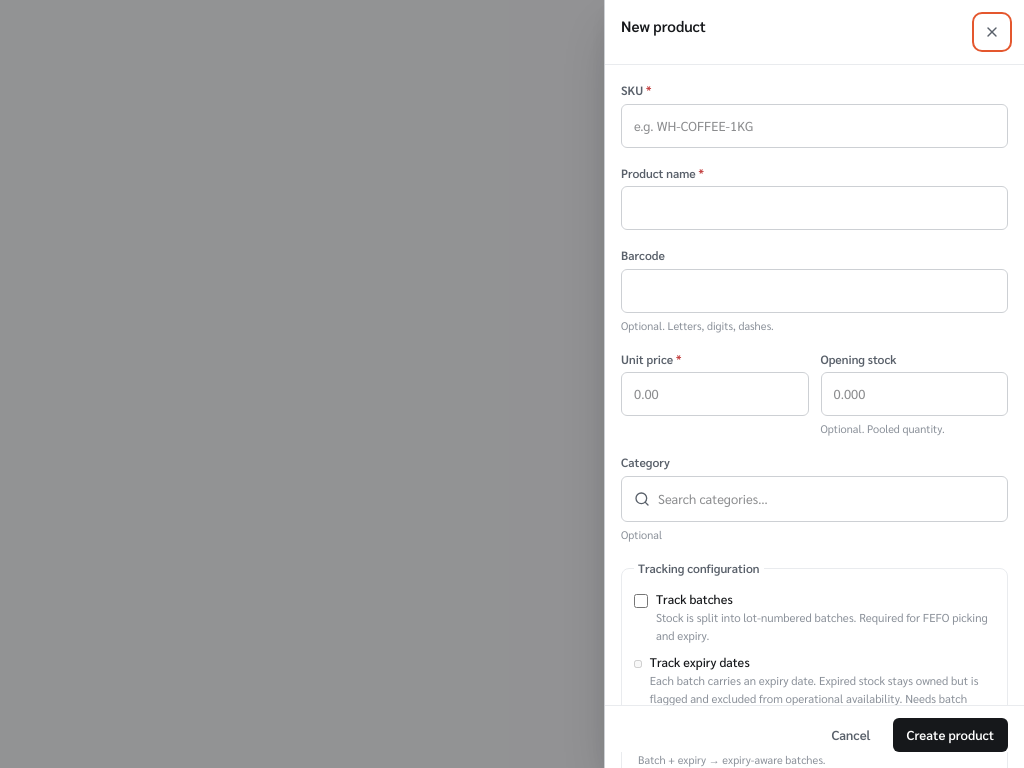
CreateProductDrawer › shows the 409 duplicate-SKU copy with a Request ID
The width and height of the screenshot is (1024, 768).
Type "QA-DUP" into the field labelled "SKU *" at x=814, y=126, box [621,104,1008,148]
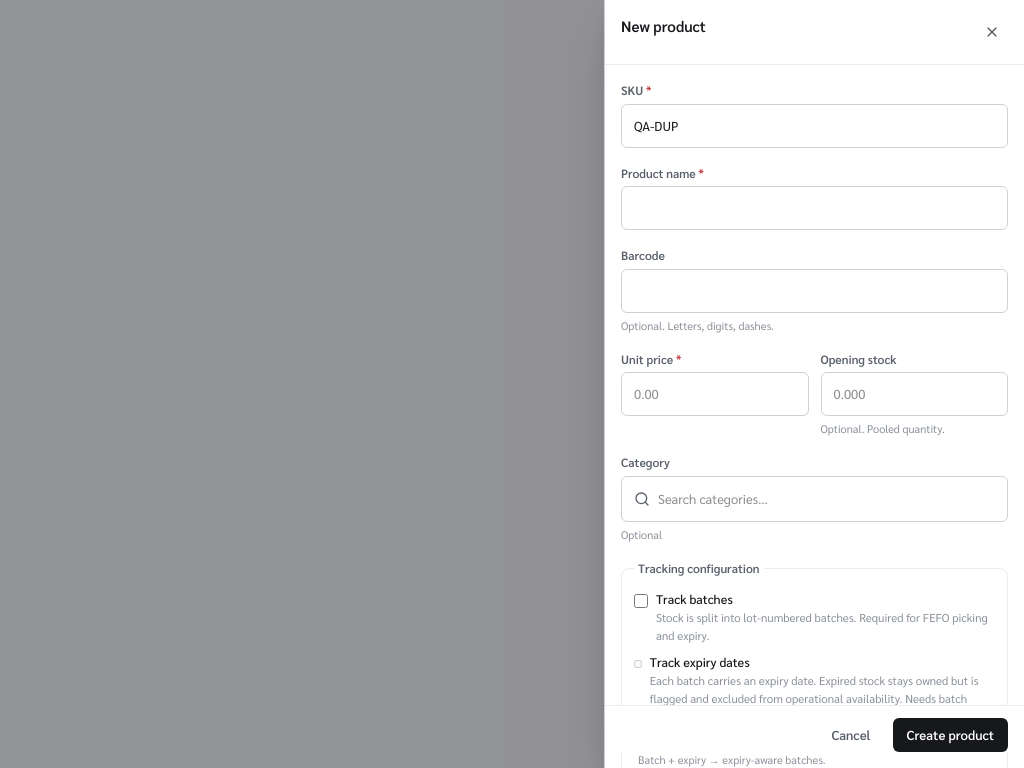
Type "Dup" into the field labelled "Product name *" at x=814, y=208, box [621,186,1008,230]
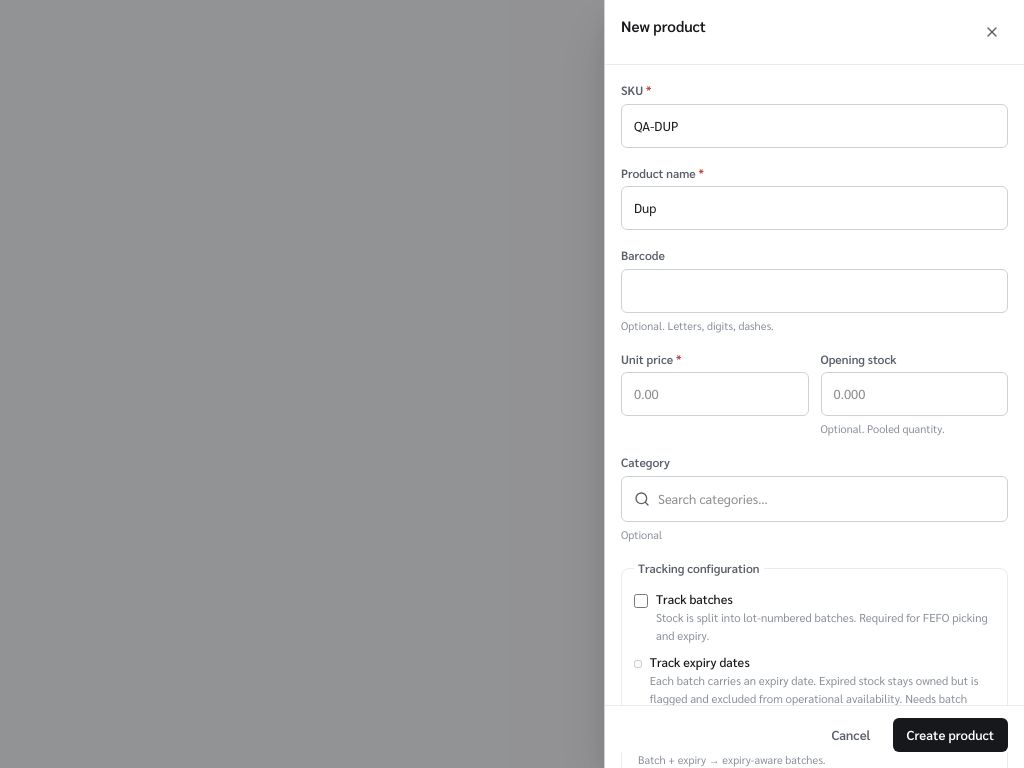
Type "1.00" into the field labelled "Unit price *" at x=715, y=394, box [621,372,808,416]
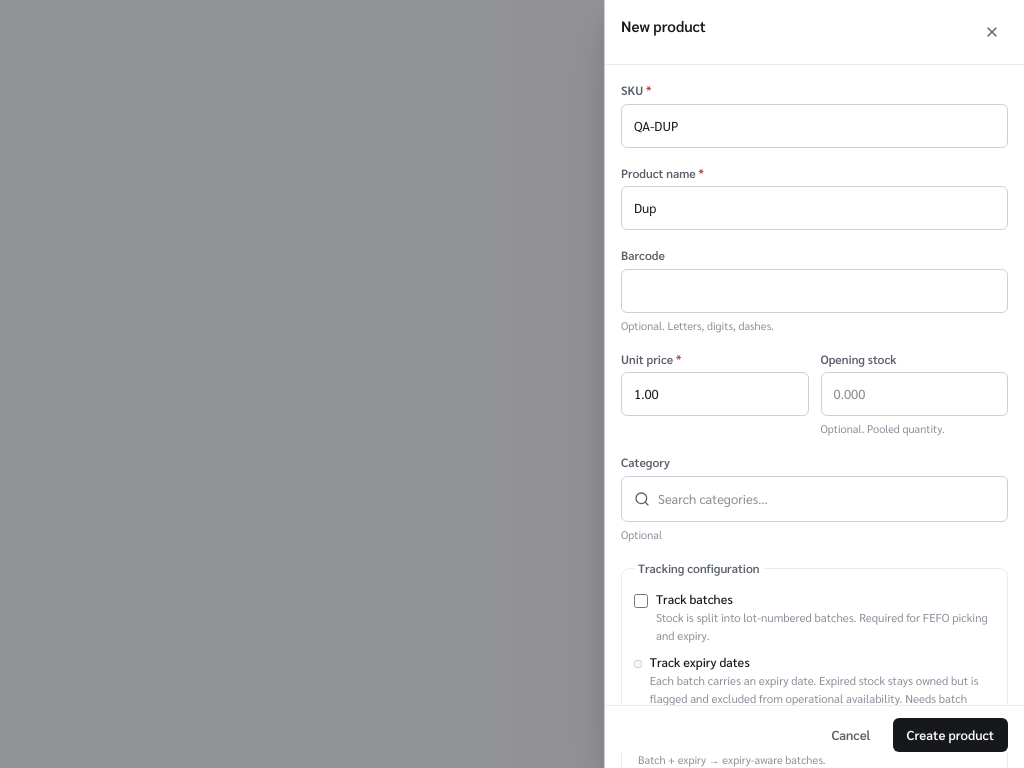
Click the button "Create product" at x=950, y=735, box [892,718,1008,752]
(page scrolled)
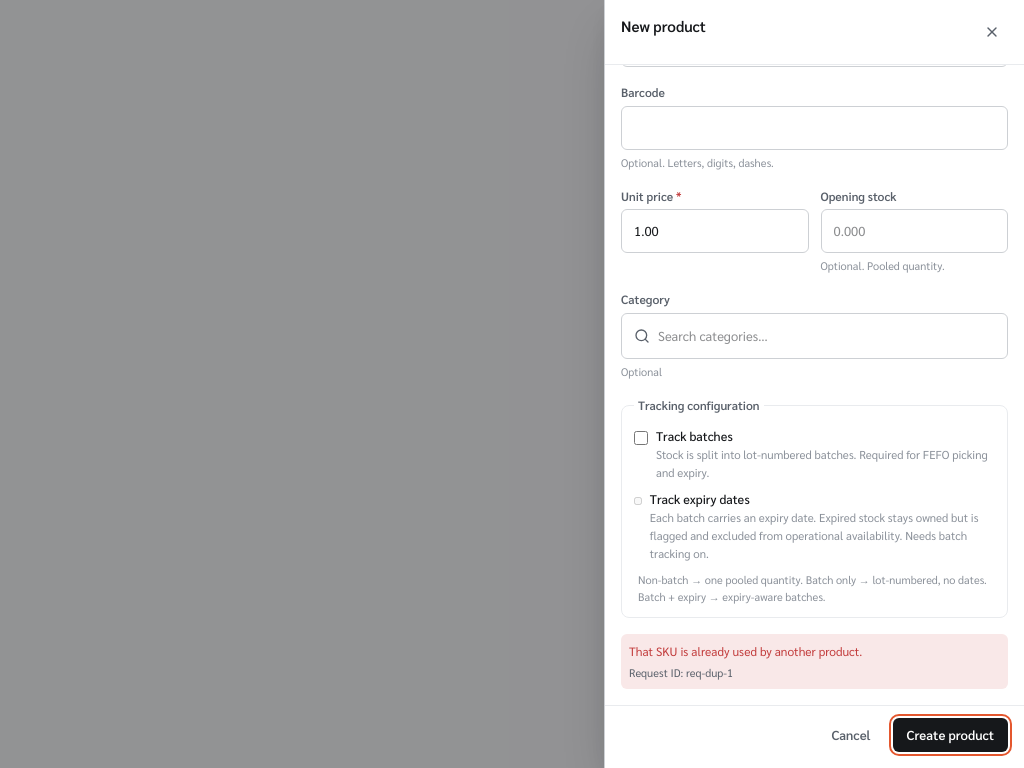
expect the text "That SKU is already used by another product. Request ID: req-dup-1" is shown: met, box [621,634,1008,689]
expect the text "req-dup-1" is shown: met, box [686,665,733,680]
